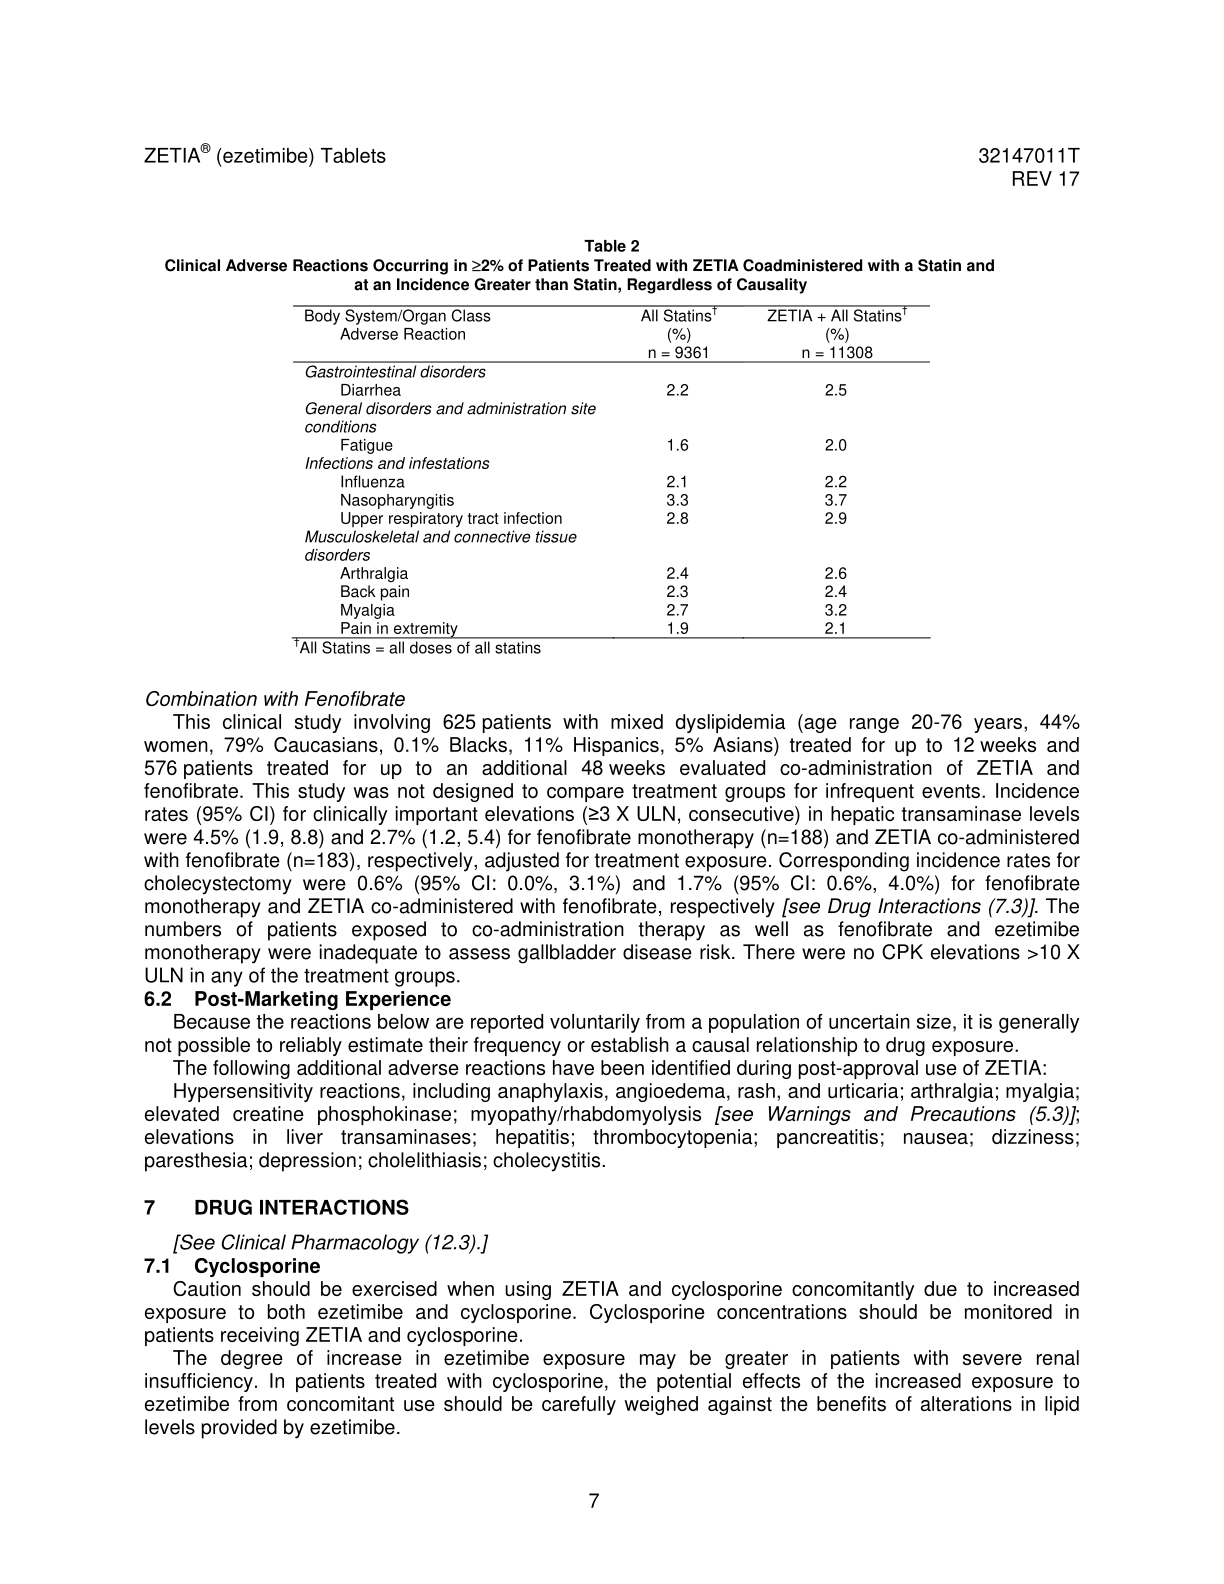partial_lined: (292, 301, 930, 642)
